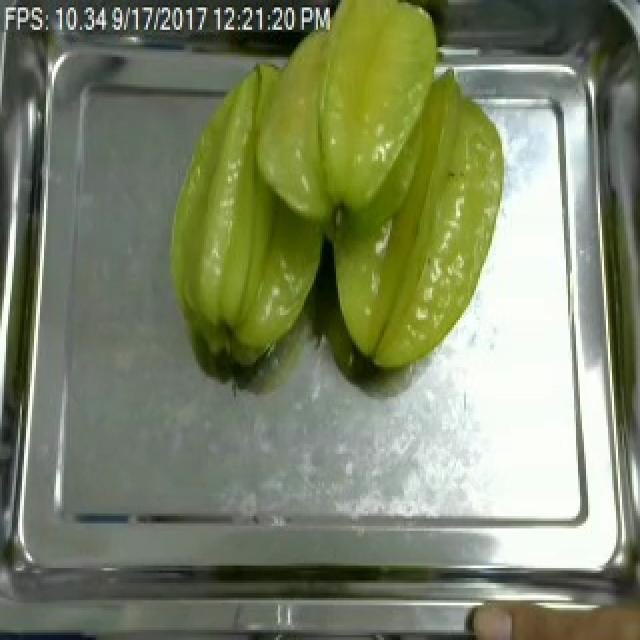fruit: (160, 8, 470, 240), (320, 74, 510, 380)
